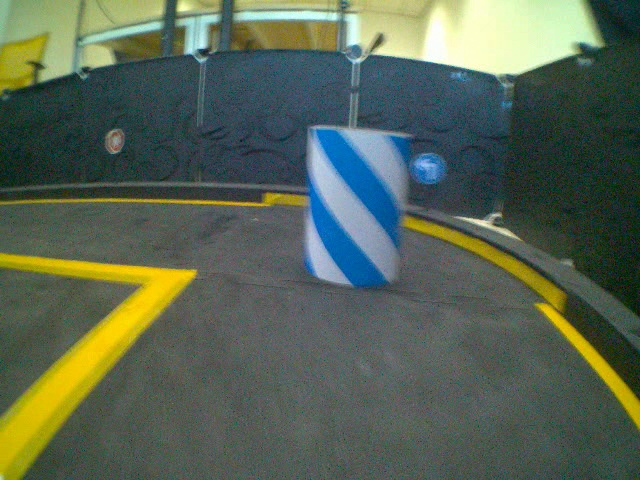bucket: (302, 124, 408, 289)
